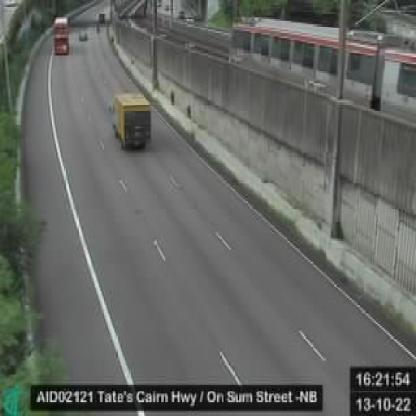Bus: (54, 17, 71, 56)
Truck: (116, 89, 152, 148)
